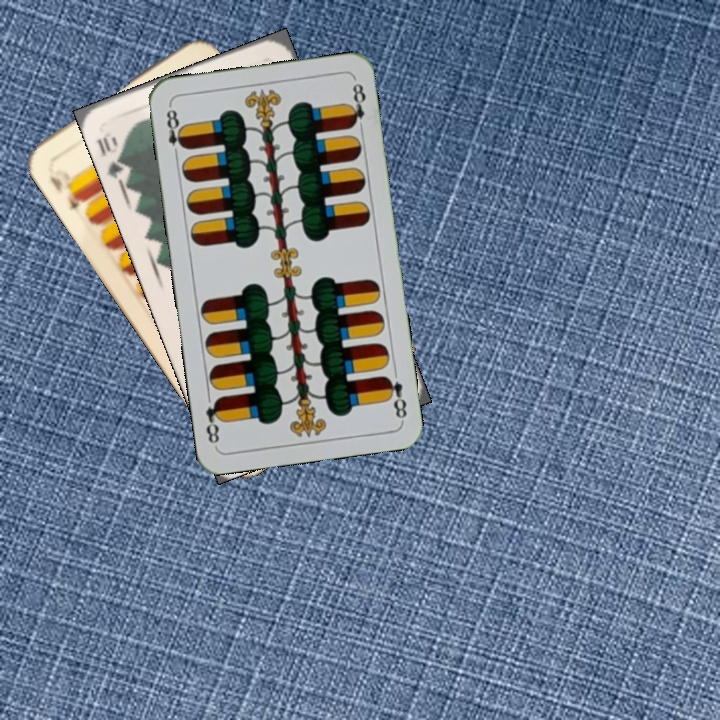E10: (45, 172, 88, 213)
E8: (162, 102, 189, 161), (380, 371, 410, 423)
G10: (93, 132, 133, 184)
